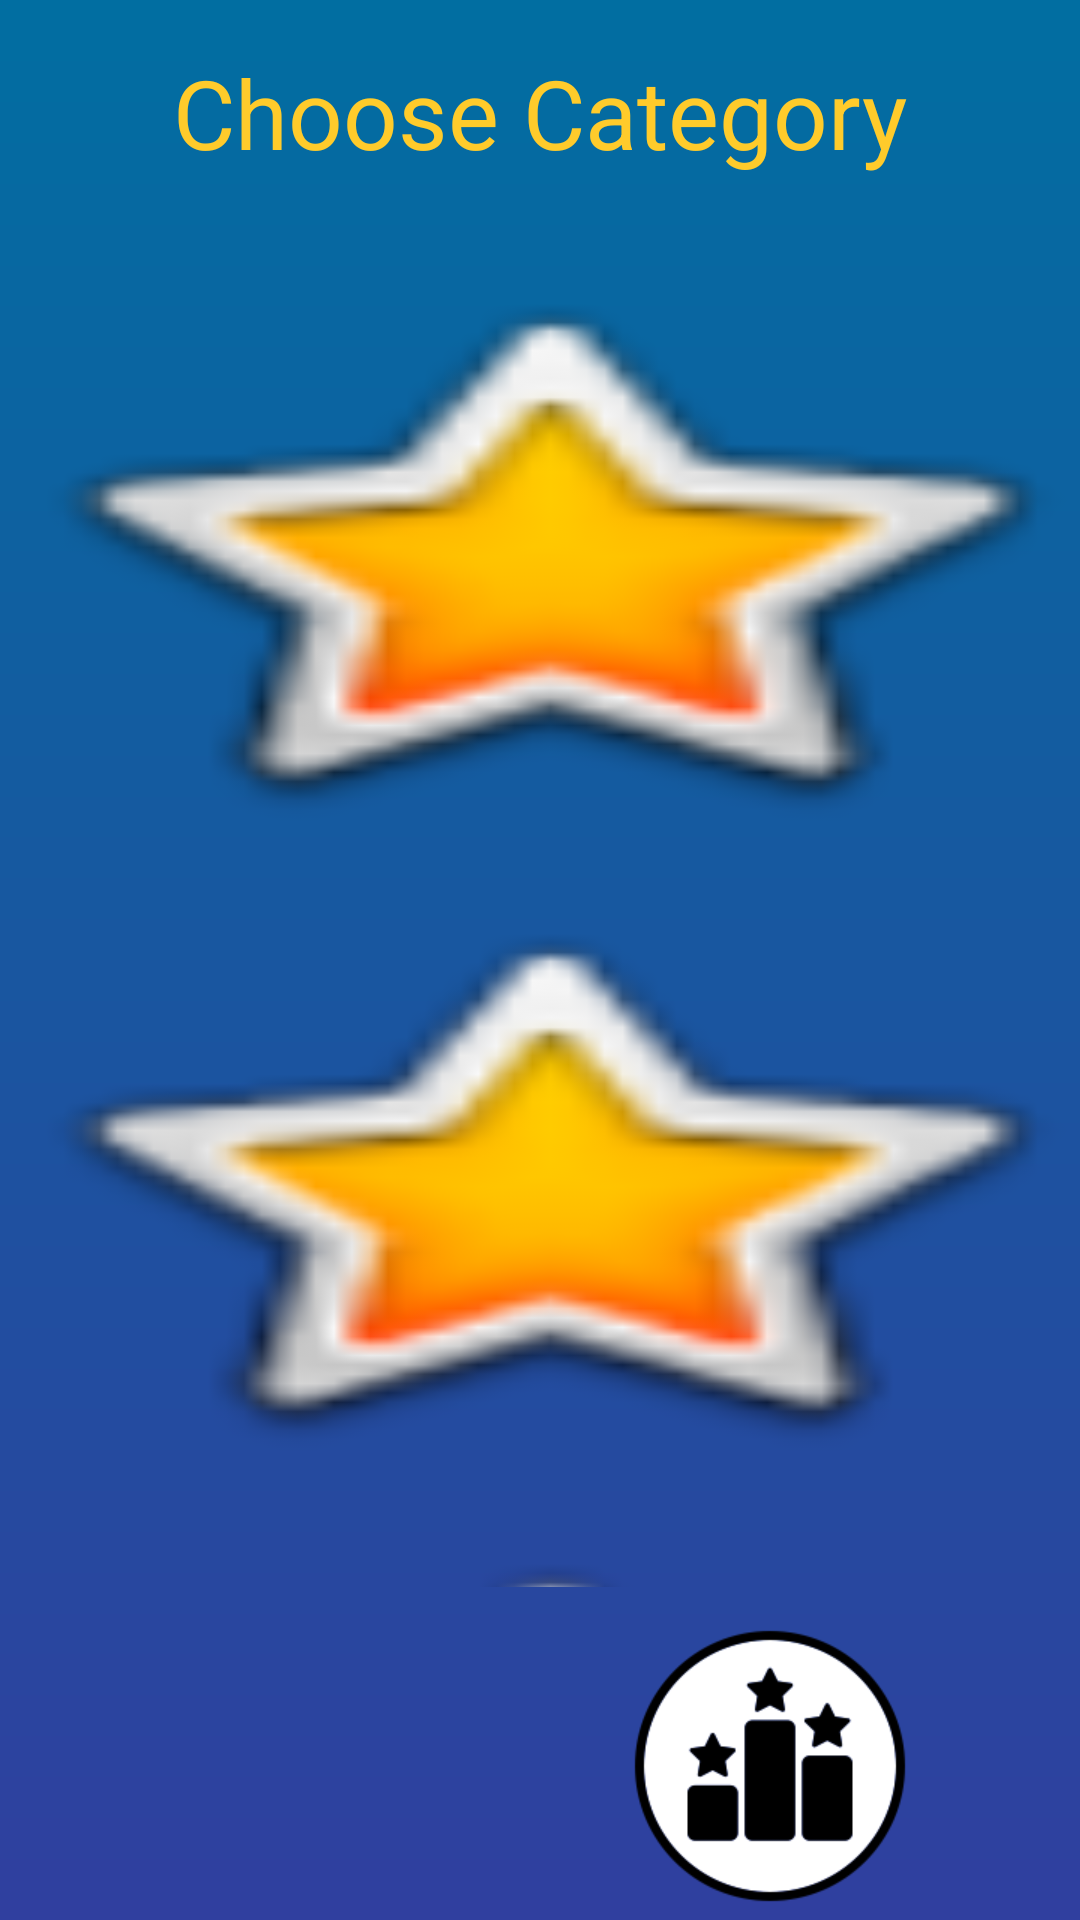

Icon click points for this 1080 × 1920 phone screenshot, format [x,y]:
leaderboard: [770,1766]
